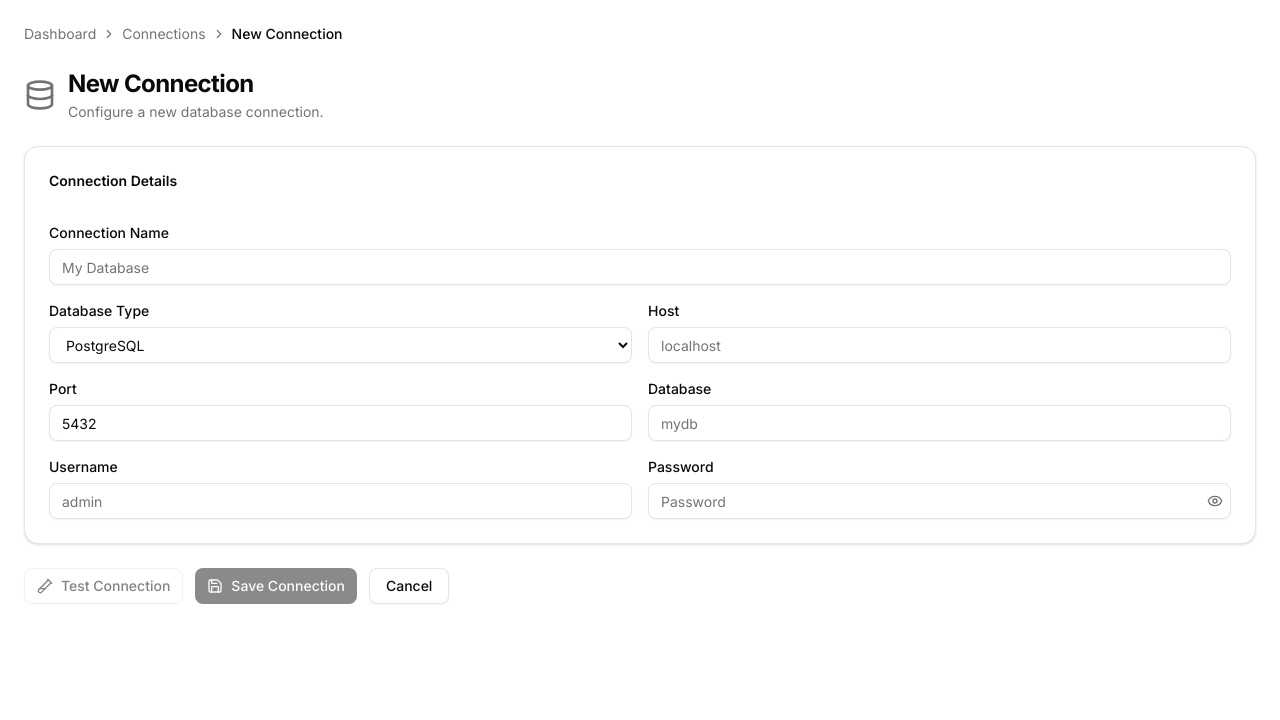
it: ConnectionFormPage › new connection mode › auto-fills port when db_type changes back to PostgreSQL
Select "MySQL" in the dropdown with test id "select-db-type" at (340, 345), box x1=49 y1=327 x2=632 y2=363
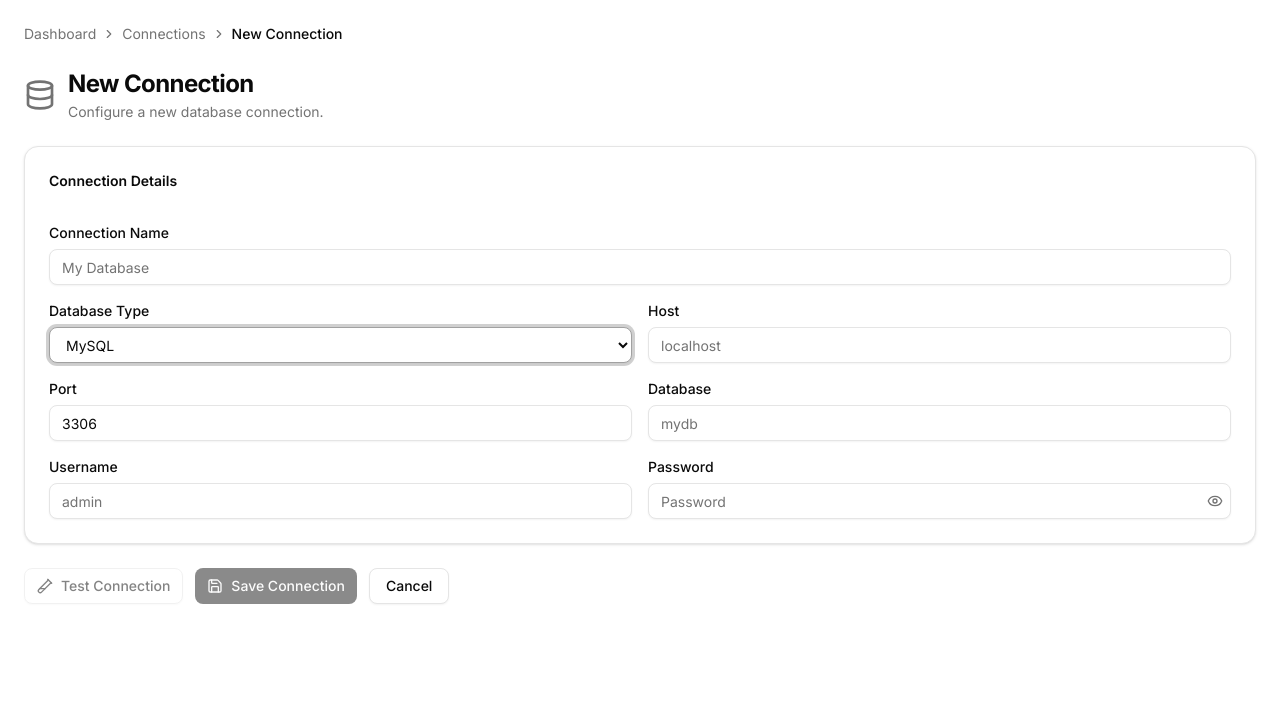
Select "PostgreSQL" in the dropdown with test id "select-db-type" at (340, 345), box x1=49 y1=327 x2=632 y2=363
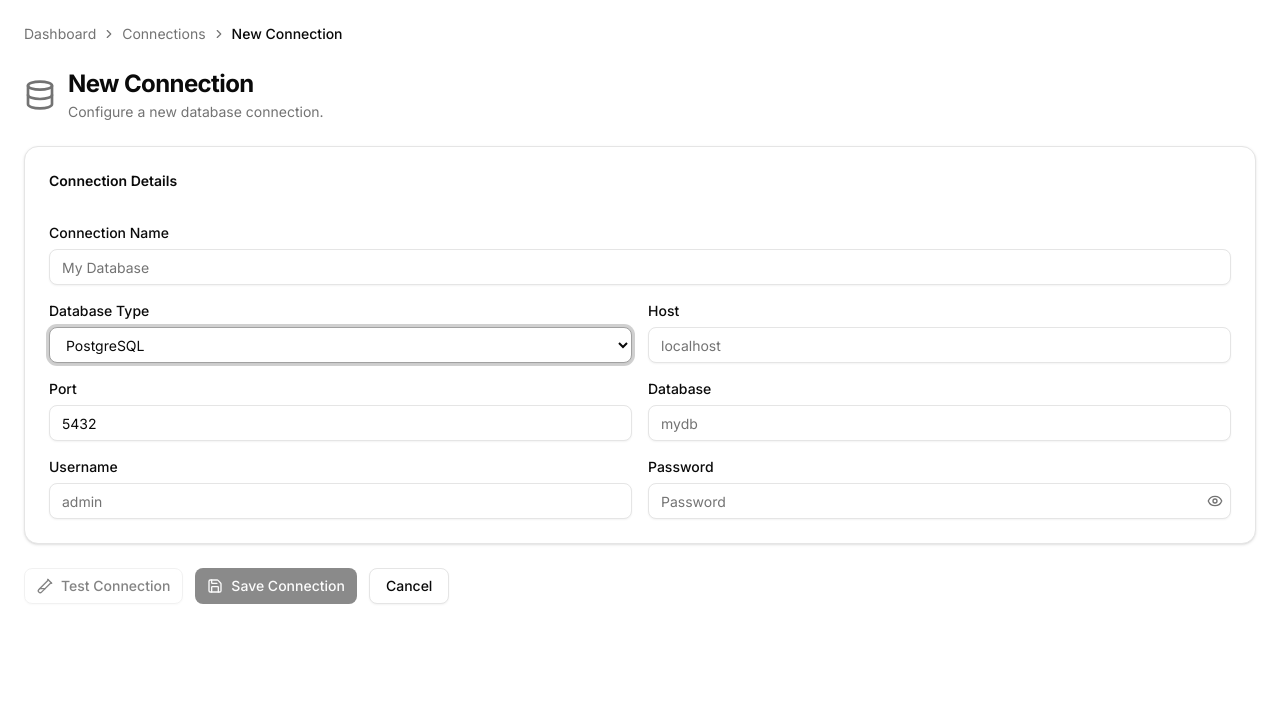
Expected: the field with test id "input-port" holds "5432", x1=49 y1=405 x2=632 y2=441
